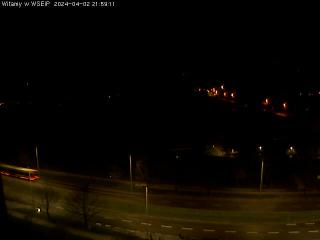bus: (0, 163, 41, 182)
